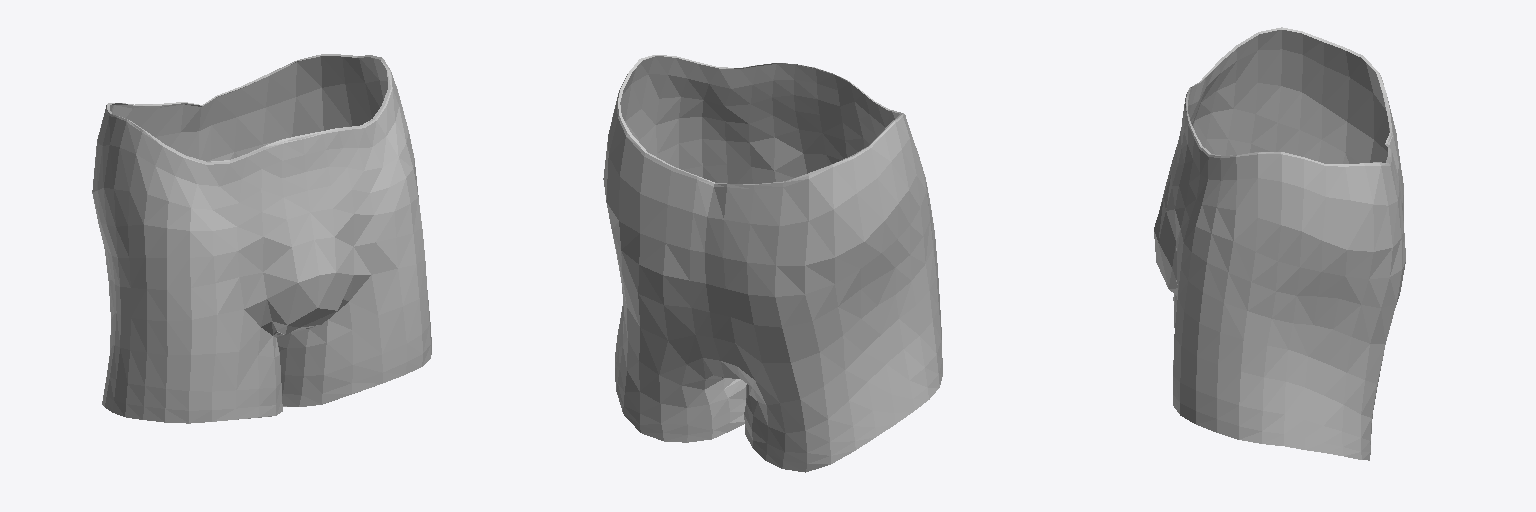
File: Calcoes.obj
3 views of the same model, side by side, from view 1: azimuth 30°, elevation 25°; view 2: azimuth 150°, elevation 25°; view 3: azimuth 270°, elevation 25° (orthographic).
Visible parts, largest first — view 1: Calcoes; view 2: Calcoes; view 3: Calcoes.
Boxes of the visible parts, box(x1,y1,x2,y2) form: Calcoes: box(92, 54, 431, 423); Calcoes: box(603, 55, 942, 472); Calcoes: box(1154, 27, 1405, 460).
Bounding box in the file's own units: 0.4491 × 0.4688 × 0.3222.